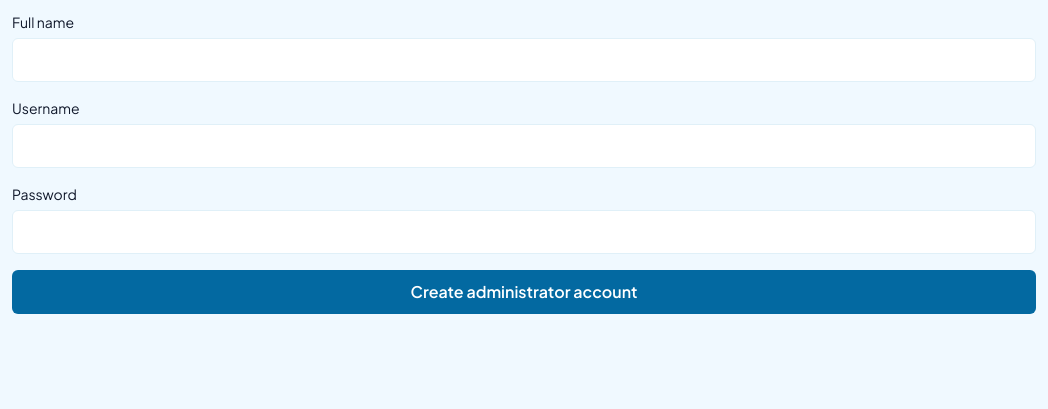
BootstrapForm › shows validation errors when submitted empty
This screenshot has width=1048, height=409.
What coordinates should you click on to do the following:
click the button "Create administrator account"
I would click on:
 (524, 292)
Its box is x1=12 y1=270 x2=1036 y2=314.
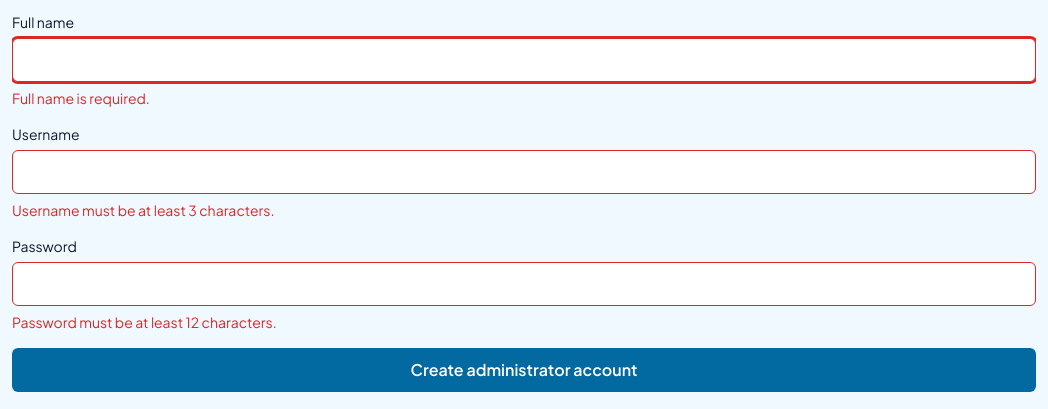
Expected: the text "Full name is required." is shown, x1=12 y1=89 x2=150 y2=107
